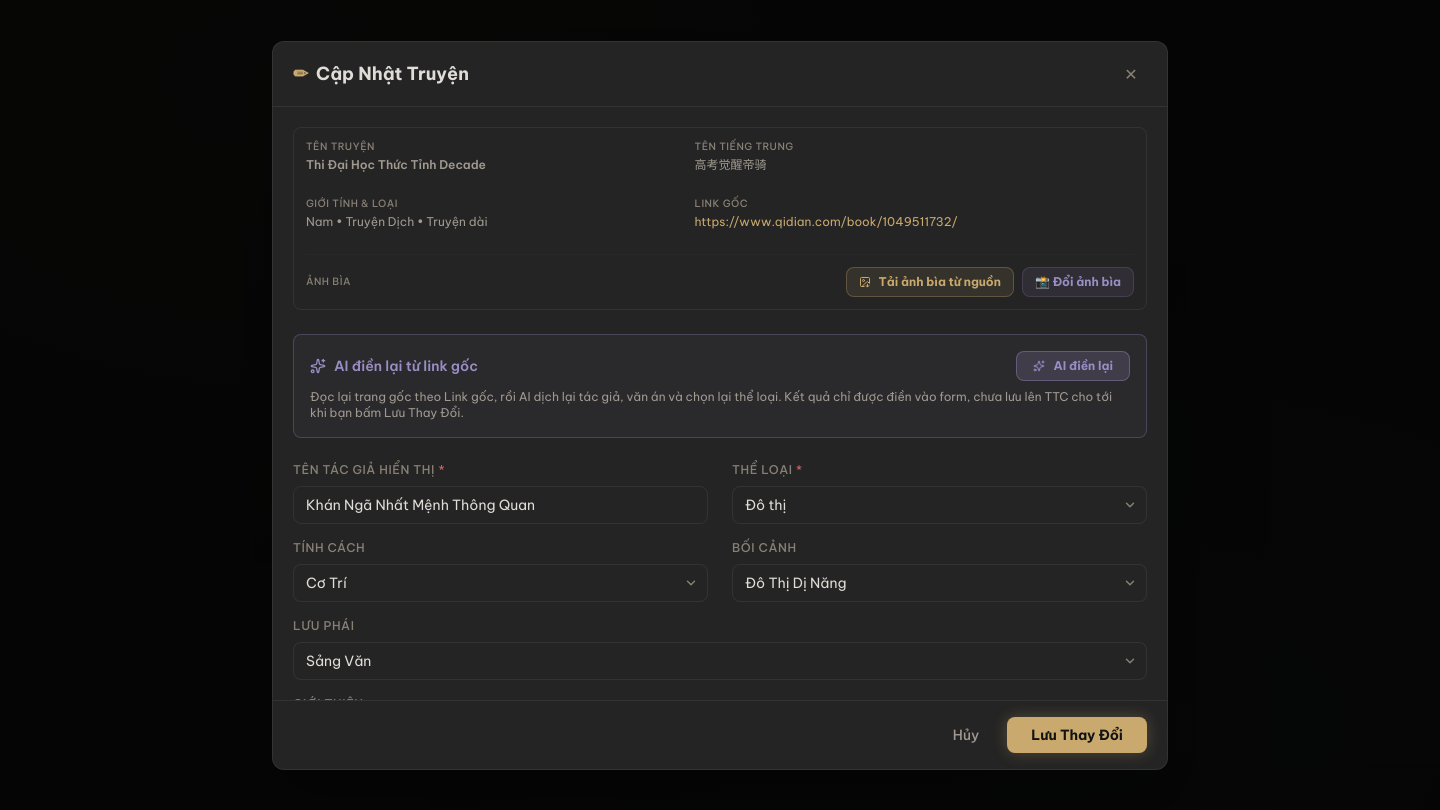
EditBookModal AI re-fill › fills the editable fields again from the source and offers the new title separately
The width and height of the screenshot is (1440, 810).
Click the button "AI điền lại" at (1073, 366), box [1016, 351, 1130, 381]
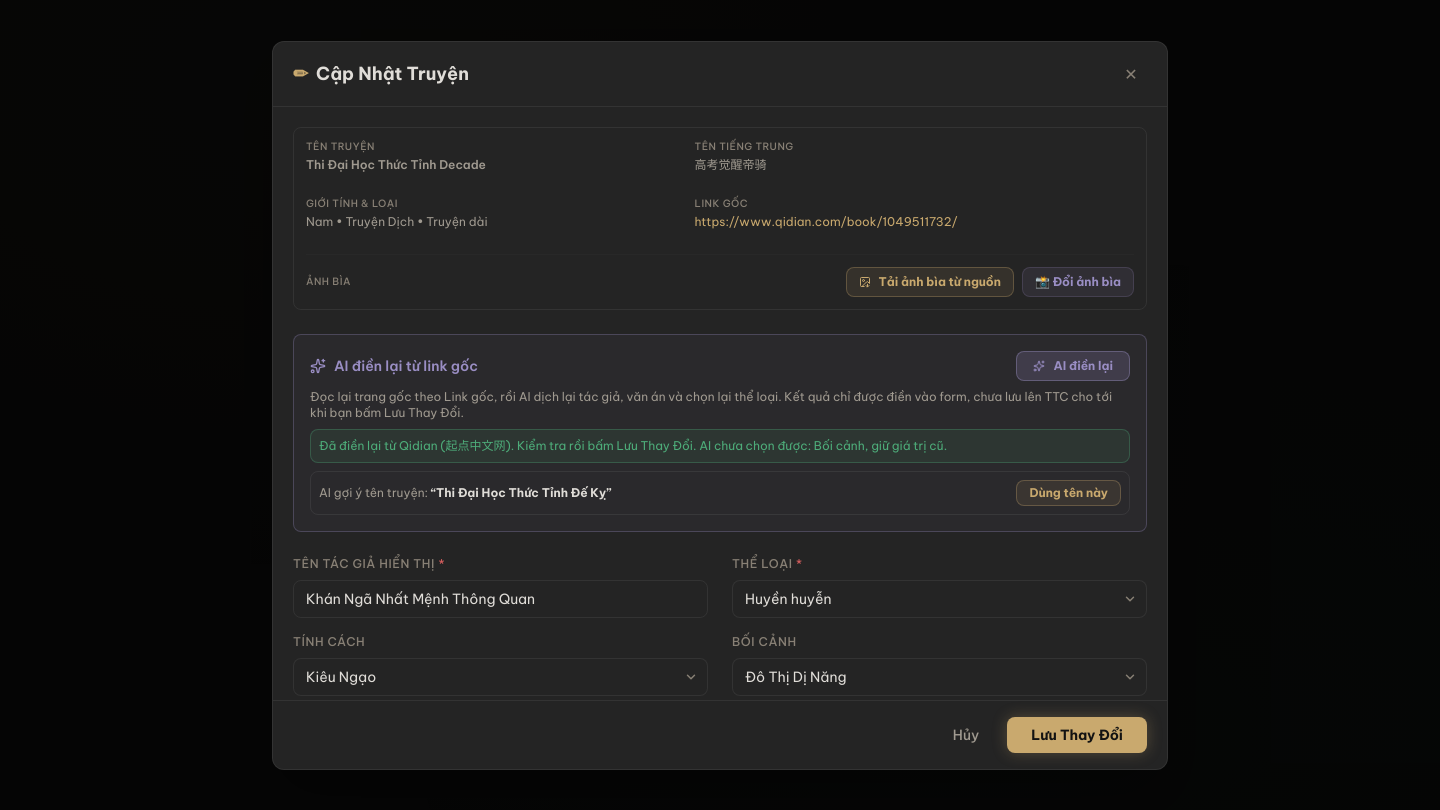
Expected: the 1st dropdown showing "Huyền huyễn" is shown, [732, 580, 1147, 618]
Expected: the text "giữ giá trị cũ" shows "AI chưa chọn được: Bối cảnh", [319, 438, 947, 453]
Expected: the text "“Thi Đại Học Thức Tỉnh Đế Kỵ”" is shown, [431, 485, 612, 500]
Click the button "Dùng tên này" at (1069, 493), box [1016, 480, 1121, 506]
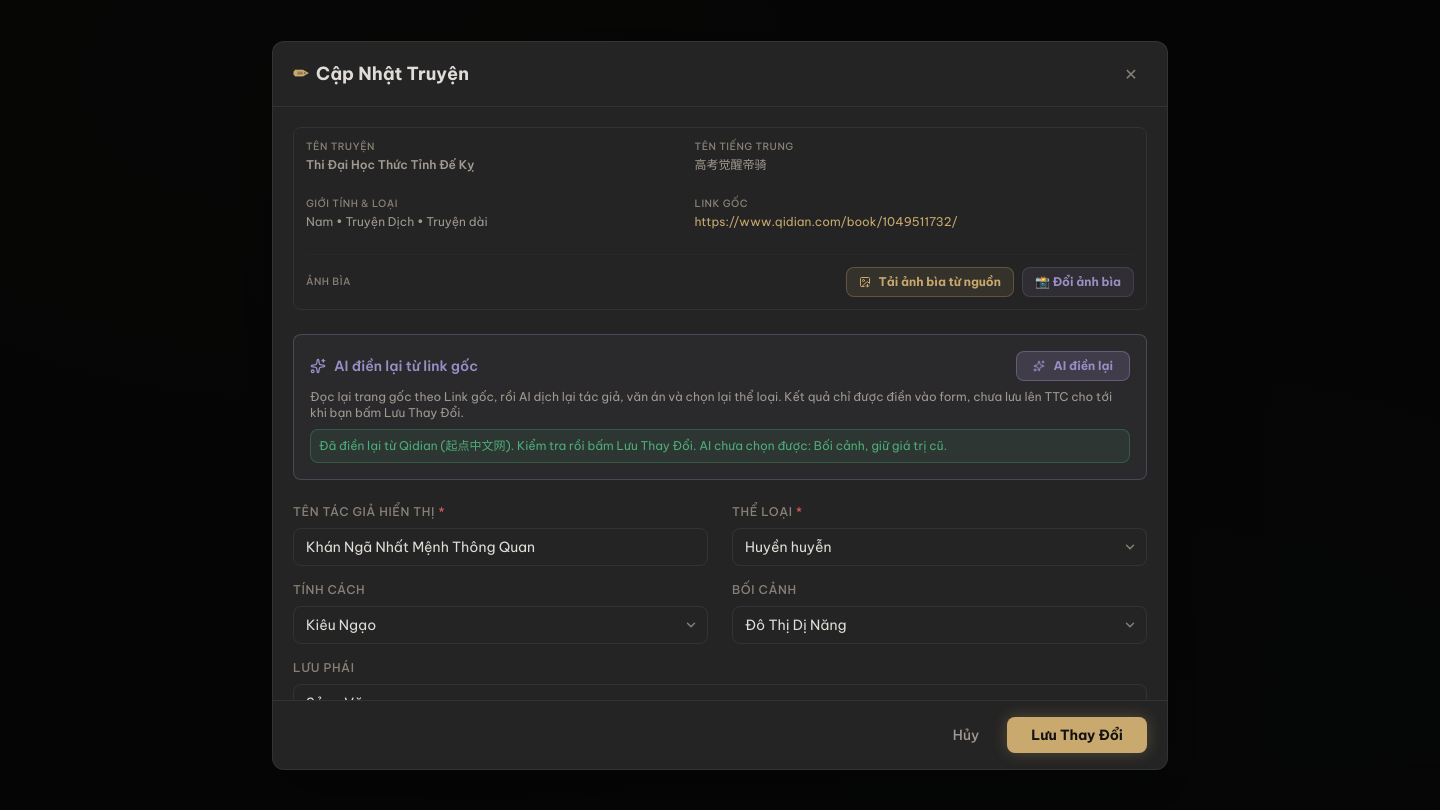
Expected: the text "Thi Đại Học Thức Tỉnh Đế Kỵ" is shown, [306, 157, 474, 172]
Expected: the button "Dùng tên này" is gone
